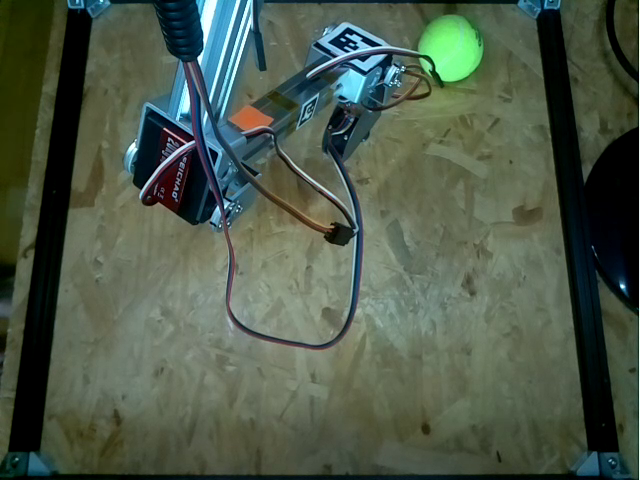tennis_ball: (417, 14, 486, 83)
